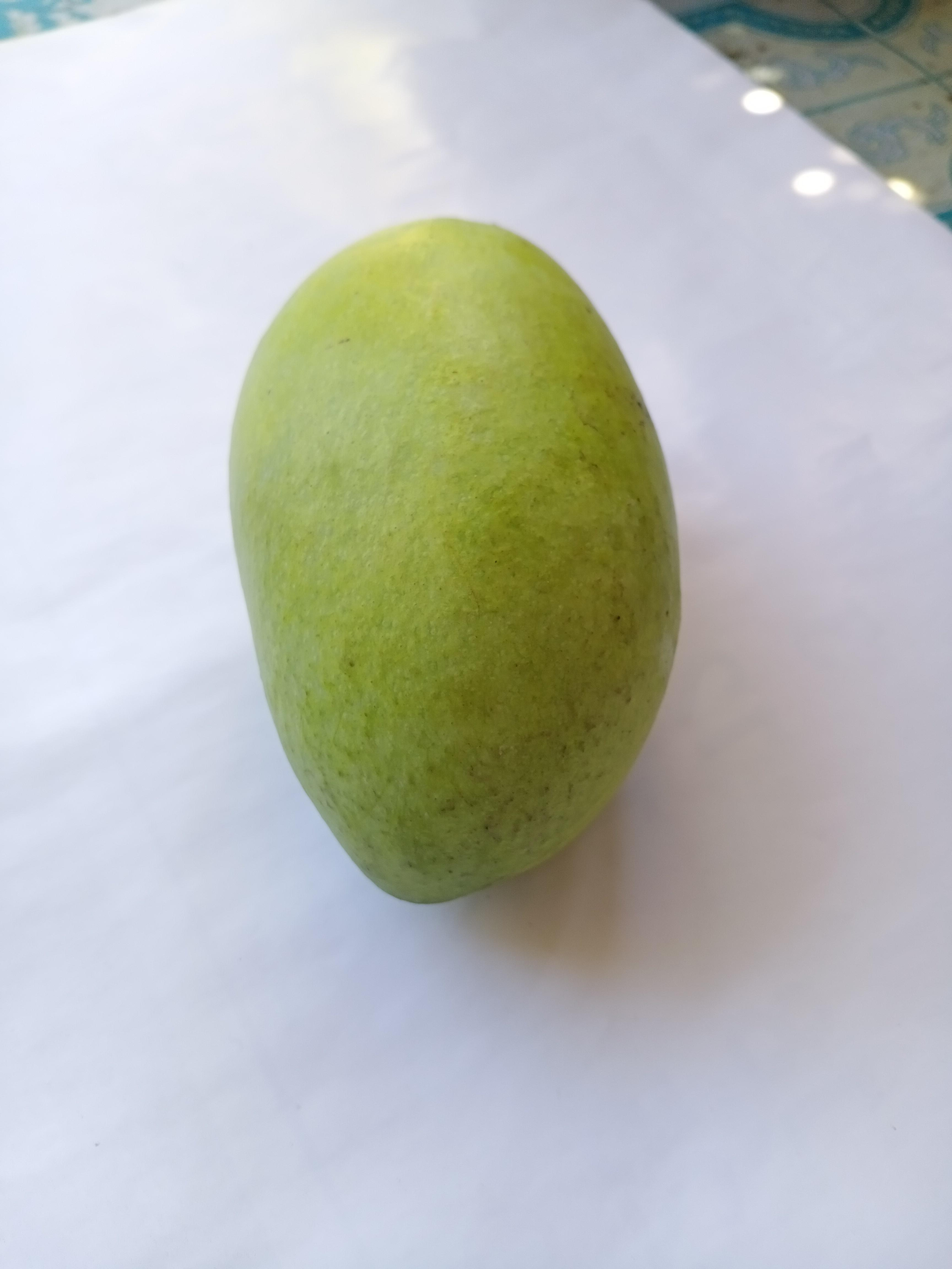Mango Unripe: (196, 182, 686, 942)
